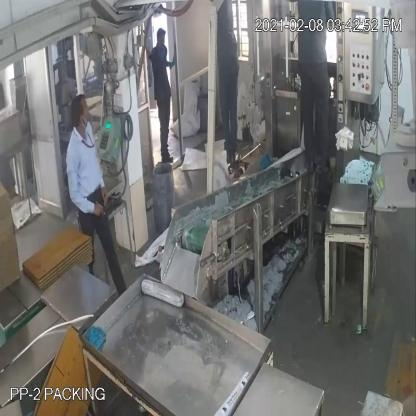no_glove: (64, 156, 105, 224)
